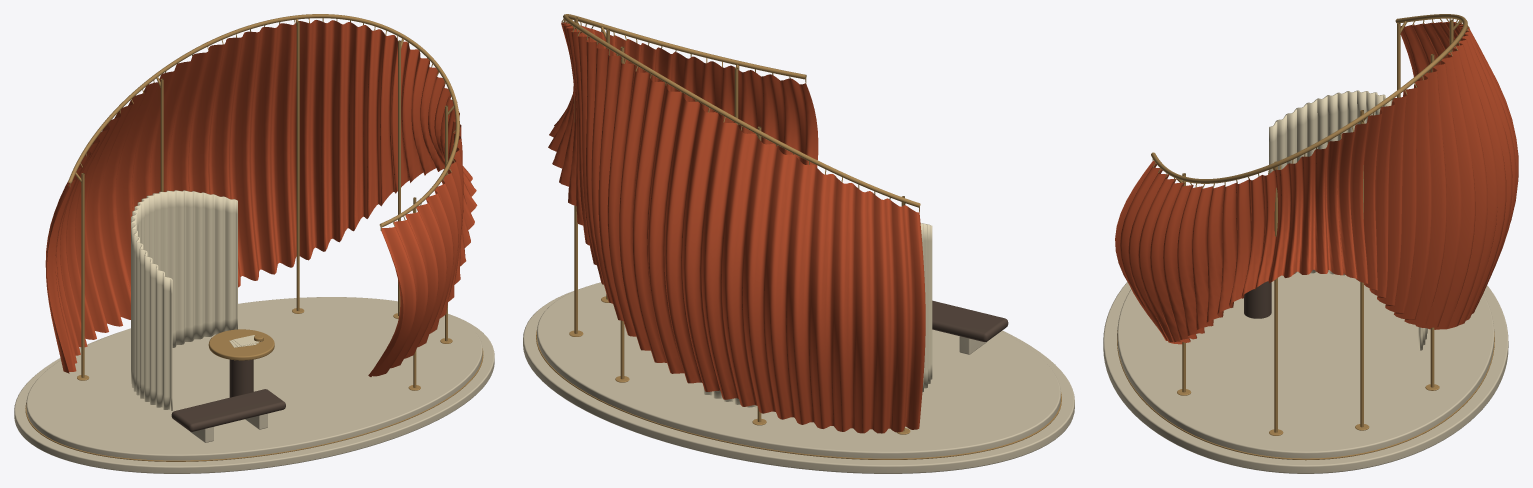
Rendered from maquette.glb.
3 renders of one model, left to right at view 1: azimuth 30°, elevation 25°; view 2: azimuth 150°, elevation 25°; view 3: azimuth 270°, elevation 25°, orthographic. The views are drawn at different scales.
Parts seen in each view (by area): view 1: Taffetas · oxyde, Calcaire, Abaca · ivoire, Laiton patiné, Travertin noyer; view 2: Taffetas · oxyde, Calcaire, Laiton patiné, Travertin noyer, Abaca · ivoire; view 3: Taffetas · oxyde, Calcaire, Laiton patiné, Abaca · ivoire, Travertin noyer.
Boxes of the visible parts, left/top/right/bottom form: Taffetas · oxyde: left=45, top=20, right=477, bottom=376; Calcaire: left=14, top=297, right=494, bottom=473; Abaca · ivoire: left=131, top=190, right=261, bottom=410; Laiton patiné: left=25, top=14, right=483, bottom=461; Travertin noyer: left=171, top=359, right=285, bottom=431; Taffetas · oxyde: left=548, top=22, right=925, bottom=433; Calcaire: left=523, top=282, right=1074, bottom=473; Laiton patiné: left=536, top=14, right=1061, bottom=459; Travertin noyer: left=932, top=300, right=1008, bottom=341; Abaca · ivoire: left=703, top=223, right=932, bottom=408; Taffetas · oxyde: left=1115, top=22, right=1518, bottom=344; Calcaire: left=1103, top=272, right=1508, bottom=473; Laiton patiné: left=1117, top=14, right=1494, bottom=460; Abaca · ivoire: left=1269, top=90, right=1427, bottom=350; Travertin noyer: left=1244, top=281, right=1271, bottom=318.
Size of the model in its own units: 10.5 by 6.88 by 7.34.
